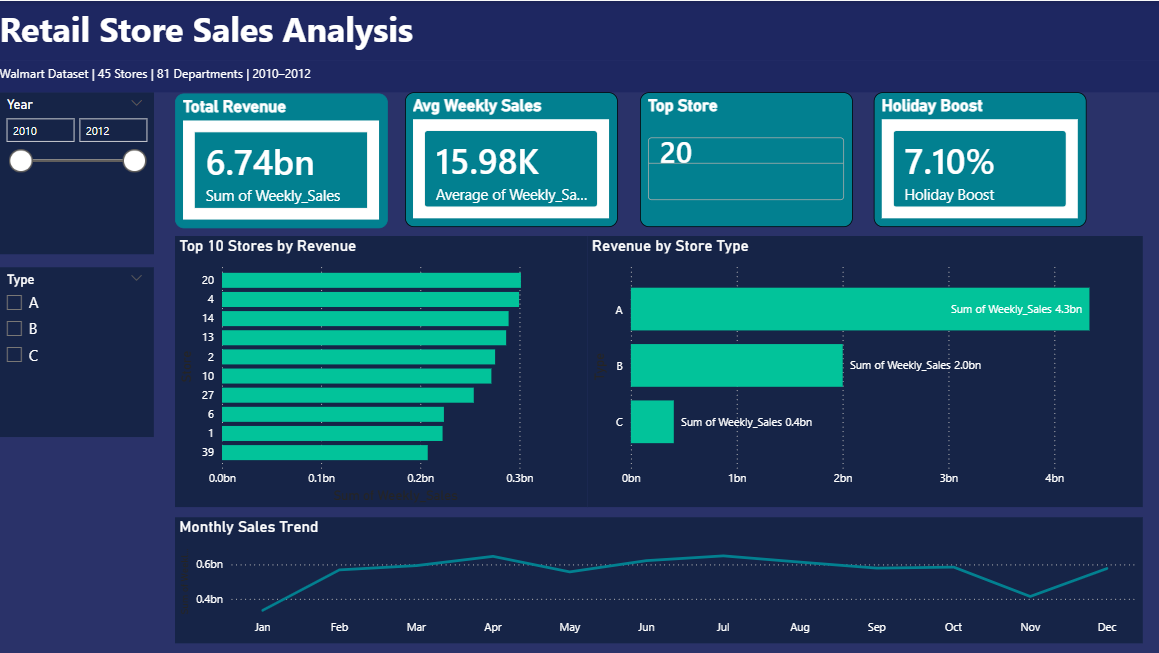

The dashboard page shown, as its layout file describes it:
{"tool":"powerbi","page":{"name":"Sales Overview","canvas":[1280,720],"ordinal":0},"visuals":[{"type":"cardVisual","title":"Total Revenue","fields":{"Data":["Sum(master_cleaned.Weekly_Sales)"]},"box":[197.6,101.5,233.3,148.2],"z":0},{"type":"lineChart","title":"Monthly Sales Trend","fields":{"Y":["Sum(master_cleaned.Weekly_Sales)"],"Category":["master_cleaned.Month_Name"]},"box":[197.6,566.7,1062.1,138.6],"z":1000},{"type":"clusteredBarChart","title":"Revenue by Store Type","fields":{"Category":["master_cleaned.Type"],"Y":["Sum(master_cleaned.Weekly_Sales)"]},"box":[650.4,258,609.3,297.8],"z":2000},{"type":"clusteredBarChart","title":"Top 10 Stores by Revenue","fields":{"Y":["Sum(master_cleaned.Weekly_Sales)"],"Category":["master_cleaned.Store"]},"box":[197.6,258,452.8,297.8],"z":3000},{"type":"slicer","fields":{"Values":["master_cleaned.Year"]},"box":[0,100.2,174.3,177],"z":4000},{"type":"slicer","fields":{"Values":["master_cleaned.Type"]},"box":[0,292.3,174.3,186.6],"z":5000},{"type":"textbox","box":[0,0,1280.3,65.9],"z":6000},{"type":"textbox","box":[0,65.9,1280.3,34.3],"z":7000},{"type":"cardVisual","title":" Avg Weekly Sales","fields":{"Data":["Avg(master_cleaned.Weekly_Sales)"]},"box":[450.1,100.2,233.3,148.2],"z":8000},{"type":"cardVisual","title":" Top Store","fields":{"Rows":["master_cleaned.Store"]},"box":[708.1,100.2,233.3,148.2],"z":9000},{"type":"cardVisual","title":"Holiday Boost","fields":{"Data":["master_cleaned.Holiday Boost"]},"box":[964.7,100.2,233.3,148.2],"z":10000}]}

Visuals, with their boxes in screenshot pixels (x1, y1, x2, y2), scaled from the page's 1280x720 canvas onto the 1159x653 screenshot:
"Total Revenue" cardVisual: (179, 92, 390, 226)
"Monthly Sales Trend" lineChart: (179, 514, 1141, 640)
"Revenue by Store Type" clusteredBarChart: (589, 234, 1141, 504)
"Top 10 Stores by Revenue" clusteredBarChart: (179, 234, 589, 504)
slicer - master_cleaned.Year: (0, 91, 158, 251)
slicer - master_cleaned.Type: (0, 265, 158, 434)
textbox: (0, 0, 1158, 60)
textbox: (0, 60, 1158, 91)
" Avg Weekly Sales" cardVisual: (408, 91, 619, 225)
" Top Store" cardVisual: (641, 91, 852, 225)
"Holiday Boost" cardVisual: (874, 91, 1085, 225)
